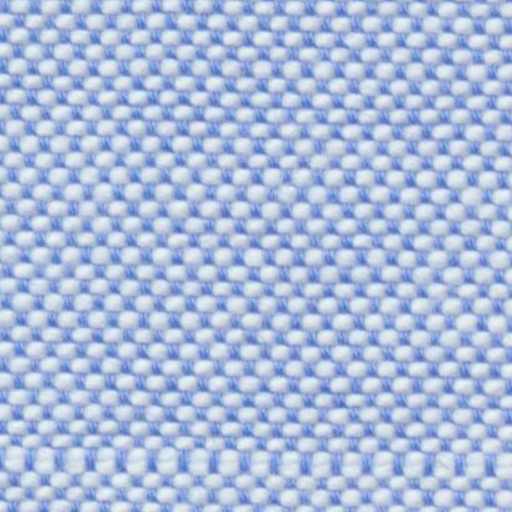TuoSha: (8, 430, 503, 494)
